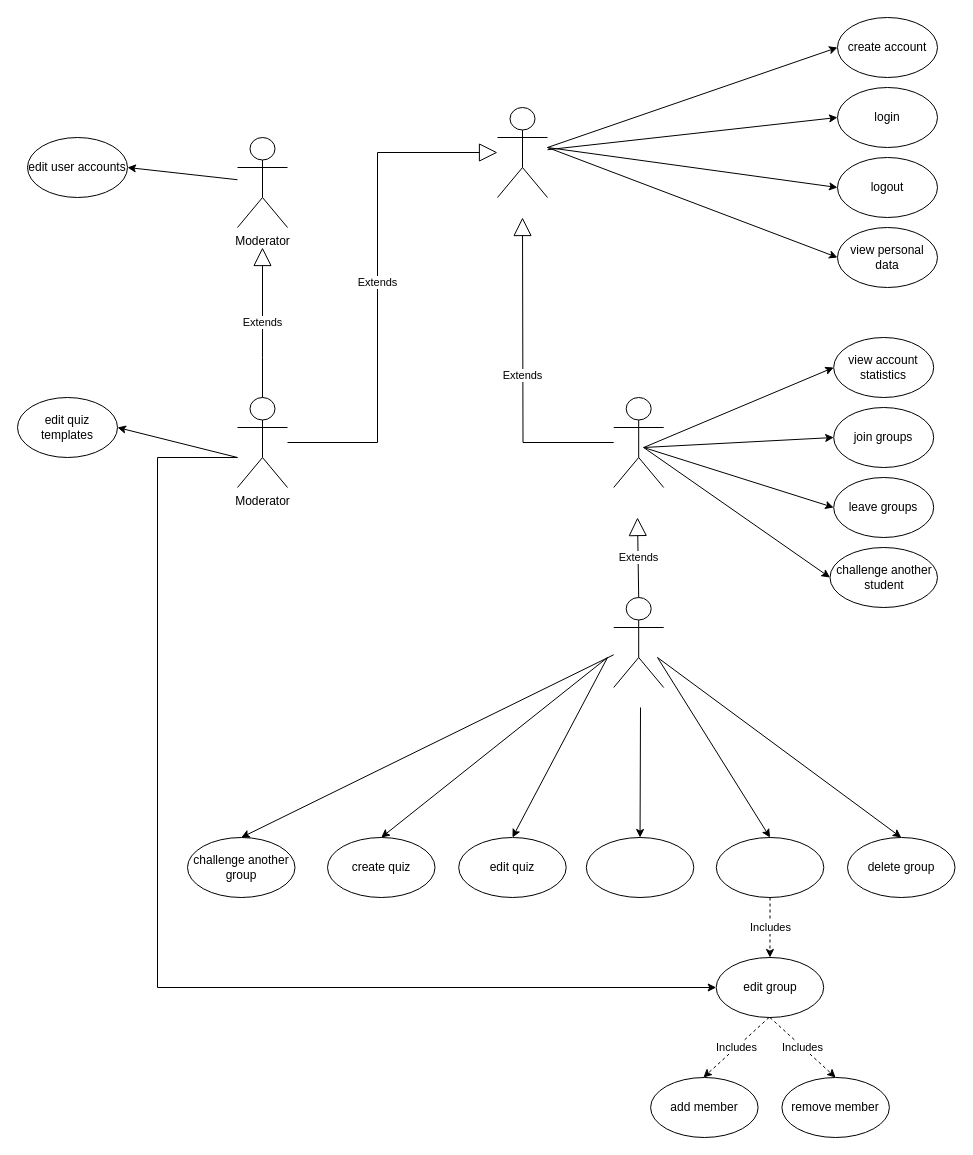
This 973x1155 diagram has some shape labels left out. The centre of each missing label's shape, as x and y in pixels:
create group: point 769,867
delete quiz: point 639,867
Professor: point 638,642
Student: point 638,442
User: point 522,152
